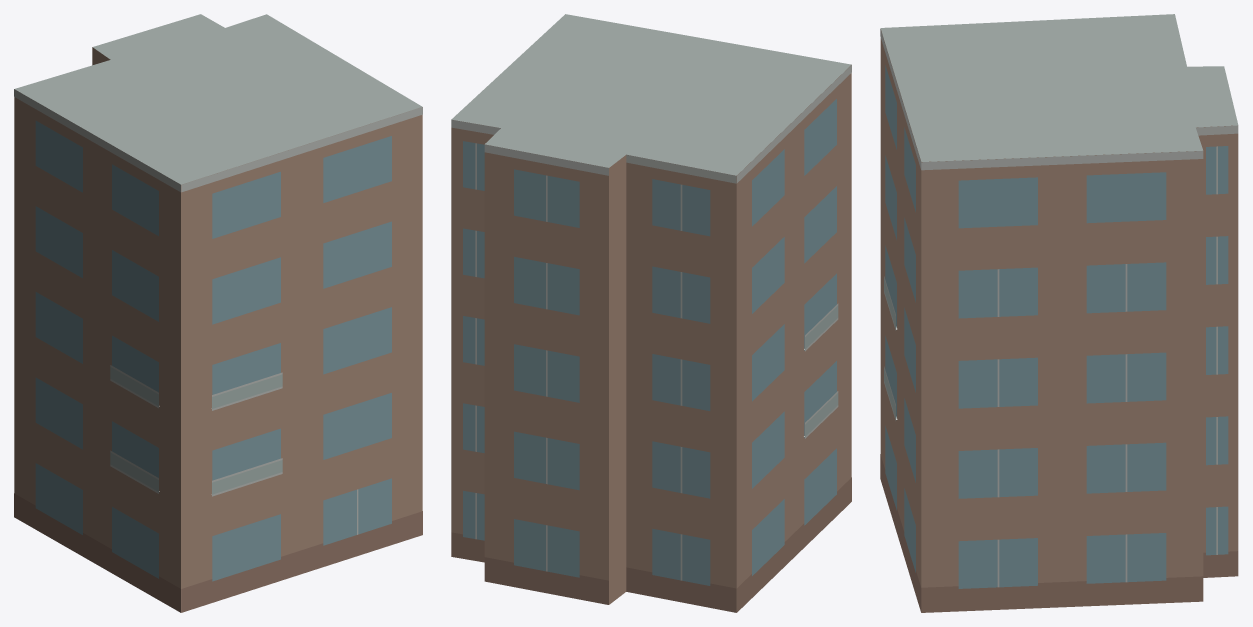
The model's file is survey-upis-32704059.glb.
The picture shows the model from 3 angles, left to right: view 1: azimuth 30°, elevation 25°; view 2: azimuth 150°, elevation 25°; view 3: azimuth 270°, elevation 25°; orthographic projection. The views are drawn at different scales.
Parts seen in each view (by area): view 1: survey-upis-32704059.tmp; view 2: survey-upis-32704059.tmp; view 3: survey-upis-32704059.tmp.
Boxes of the visible parts, x1,y1,x2,y2 form: survey-upis-32704059.tmp: (14, 14, 422, 612); survey-upis-32704059.tmp: (451, 14, 851, 612); survey-upis-32704059.tmp: (880, 14, 1238, 612).
Bounding box in the file's own units: 9.45 × 13.4 × 9.65.
